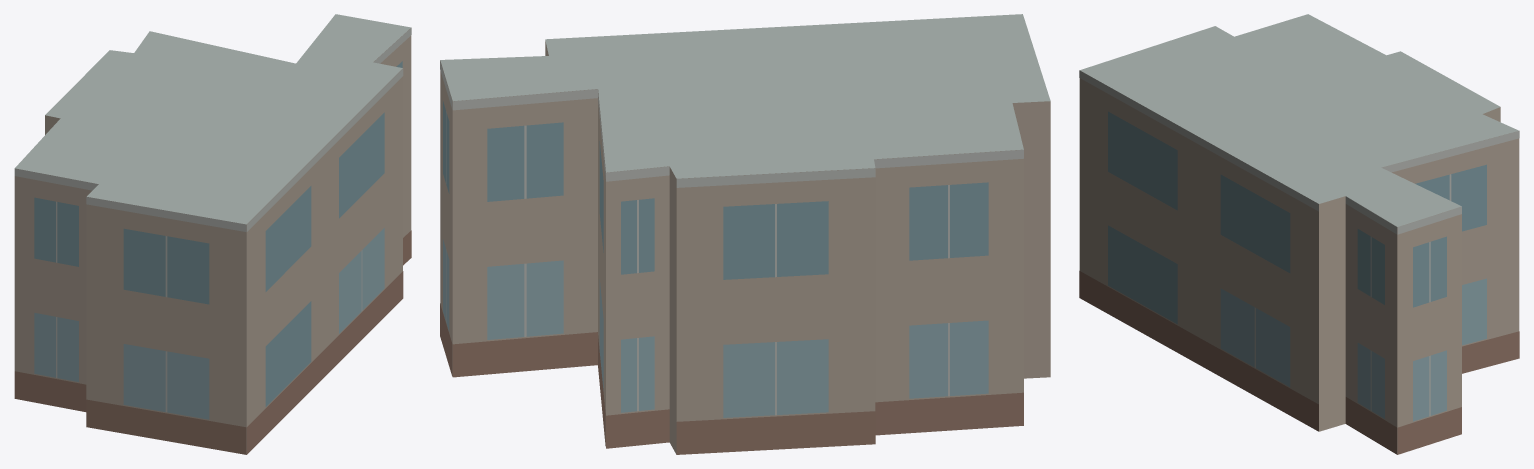
Rendered from survey-upis-32625438.glb.
3 views of the same model, side by side, from view 1: azimuth 30°, elevation 25°; view 2: azimuth 150°, elevation 25°; view 3: azimuth 270°, elevation 25° (orthographic). The views are drawn at different scales.
Visible parts, largest first — view 1: survey-upis-32625438.tmp; view 2: survey-upis-32625438.tmp; view 3: survey-upis-32625438.tmp.
Part boxes in pixels (box(x1,y1,x2,y2)): survey-upis-32625438.tmp: box(14, 14, 411, 454); survey-upis-32625438.tmp: box(440, 14, 1050, 454); survey-upis-32625438.tmp: box(1079, 14, 1519, 454).
Size of the model in its own units: 14.66 by 7.3 by 12.79.
